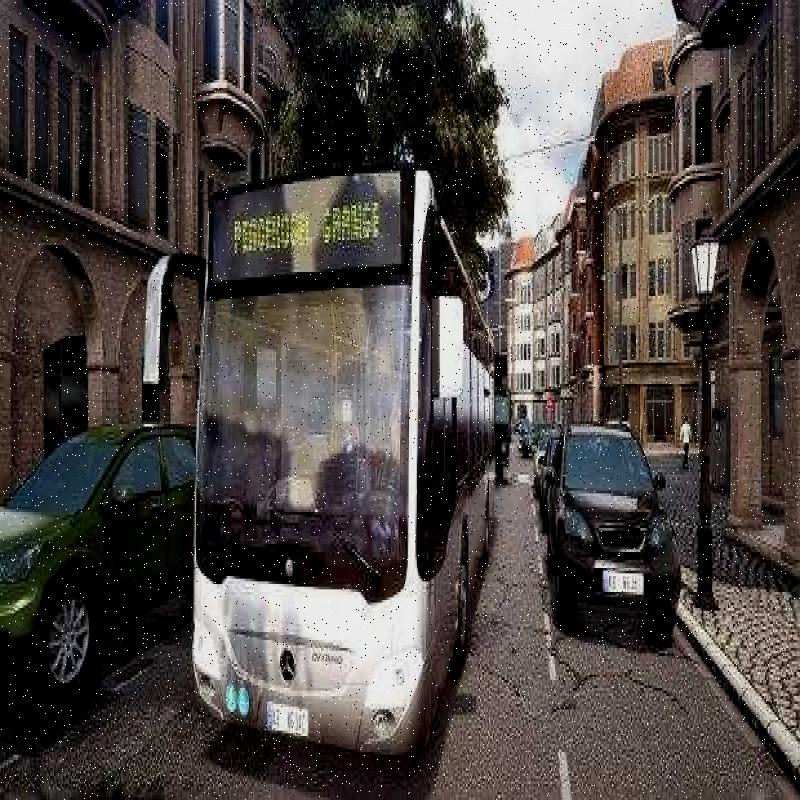bus: (133, 110, 515, 791)
